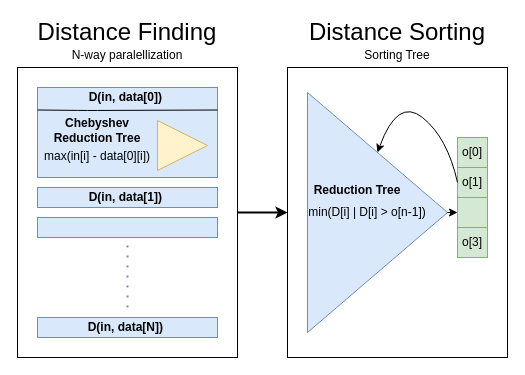
Image size: 525x375. Some labels were removed from this diagram. Here are the shapes that lost their labels. From the top down, the box of each, then its label:
(36, 216, 218, 238): D(in, data[2])
(456, 196, 488, 228): o[2]
